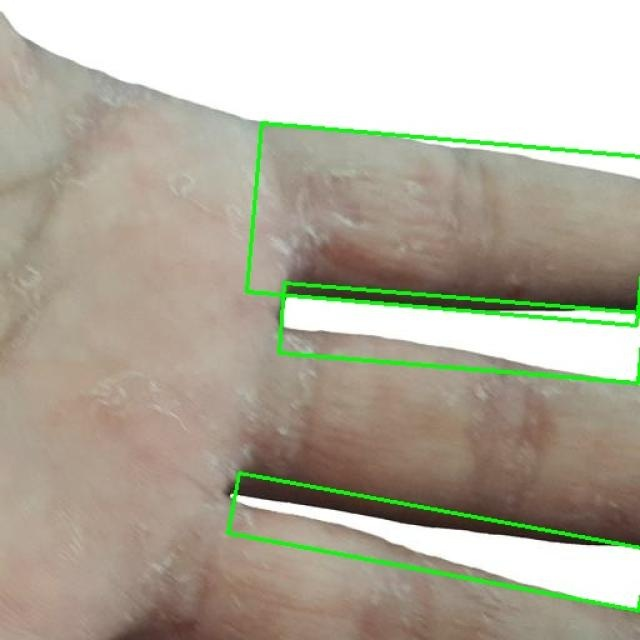Scabies: (247, 123, 640, 325), (228, 473, 640, 610), (279, 283, 640, 383)
